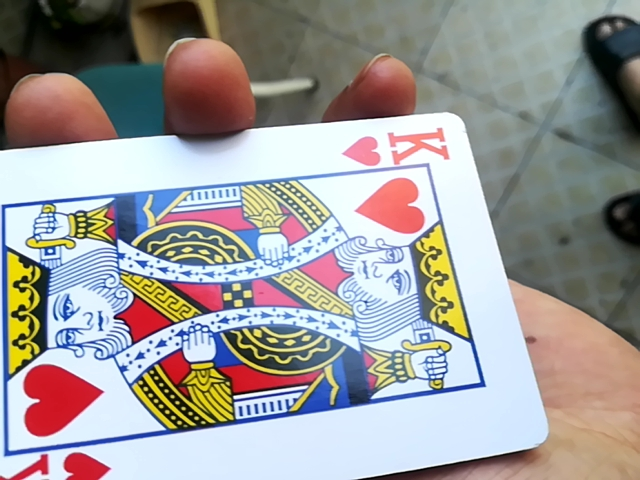hx k: (35, 113, 528, 480)
